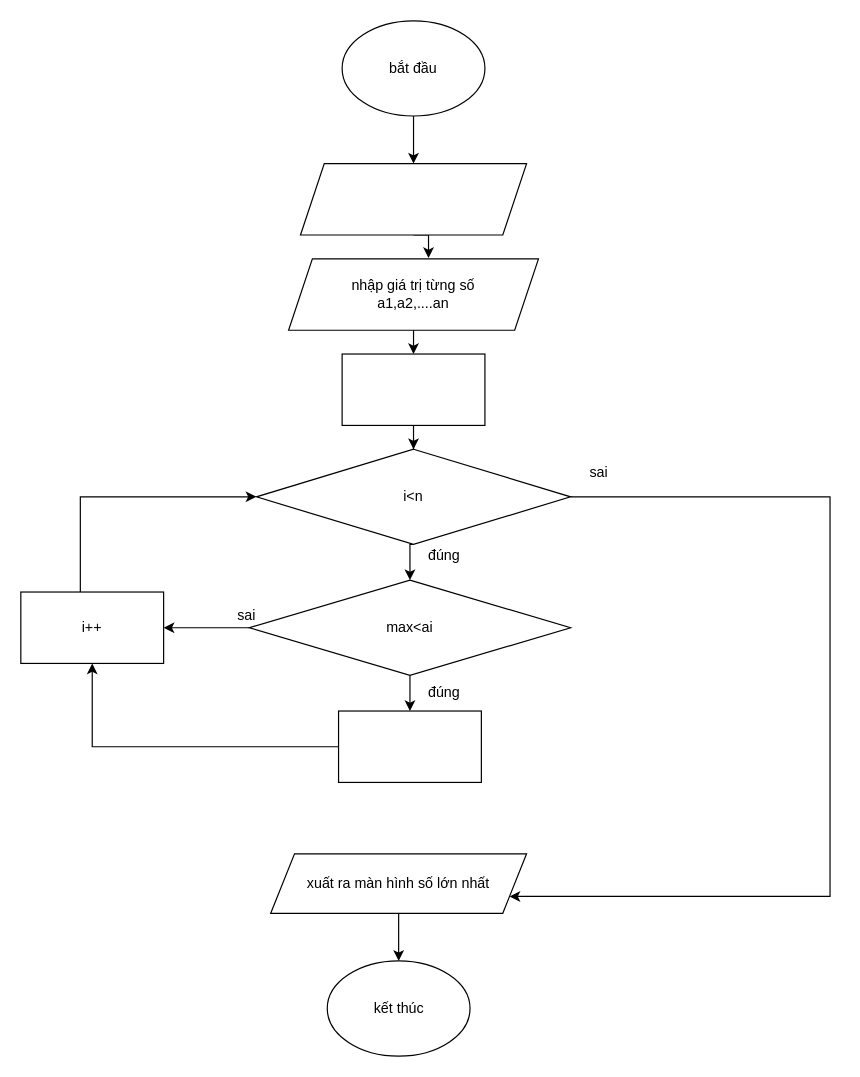
This 860x1077 diagram has some shape labels left out. The centre of each missing label's shape, as x and y in pixels:
"i=1 max=ai" belongs at point 413,389.
"max=ai" belongs at point 409,746.
"nhập số lượng dãy số" belongs at point 413,198.
